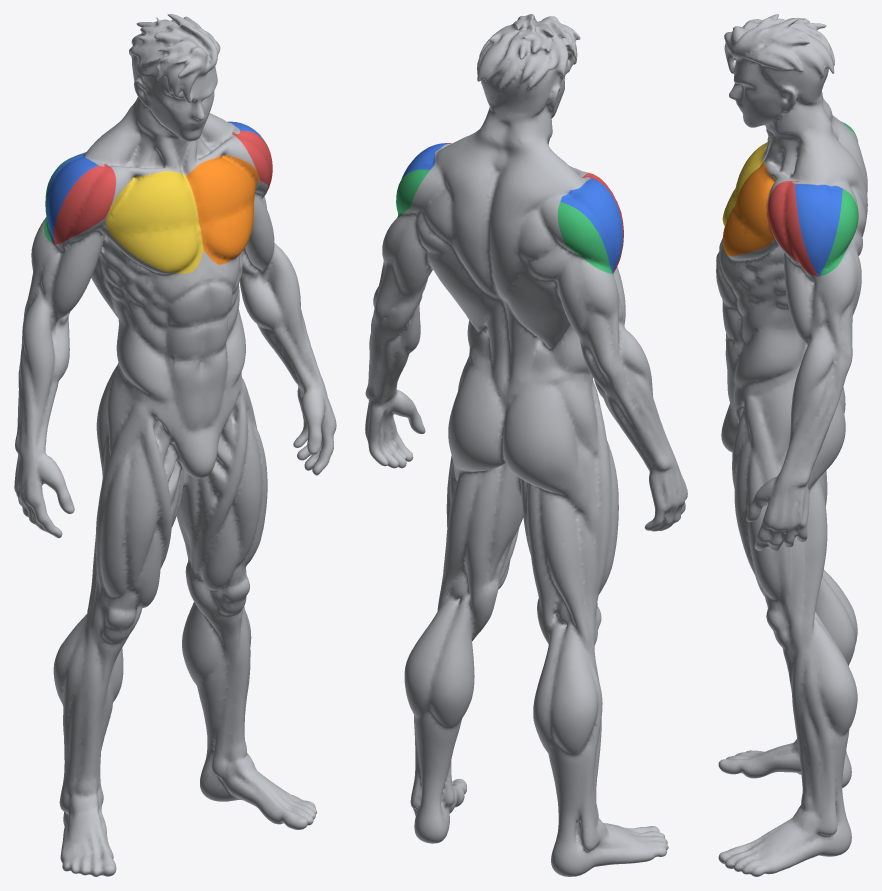
The model's file is meshy-eight-zones-control.glb.
3 renders of one model, left to right at view 1: azimuth 30°, elevation 25°; view 2: azimuth 150°, elevation 25°; view 3: azimuth 270°, elevation 25°, orthographic.
Parts seen in each view (by area): view 1: meshy.anatomical_form.marble_titan.local_neck_finish; view 2: meshy.anatomical_form.marble_titan.local_neck_finish; view 3: meshy.anatomical_form.marble_titan.local_neck_finish.
Boxes of the visible parts, x1=… form: meshy.anatomical_form.marble_titan.local_neck_finish: x1=14, y1=14, x2=336, y2=876; meshy.anatomical_form.marble_titan.local_neck_finish: x1=365, y1=14, x2=687, y2=876; meshy.anatomical_form.marble_titan.local_neck_finish: x1=716, y1=14, x2=867, y2=876.
Size of the model in its own units: 0.7588 by 1.9 by 0.3255.
1 material, 1 textured.
